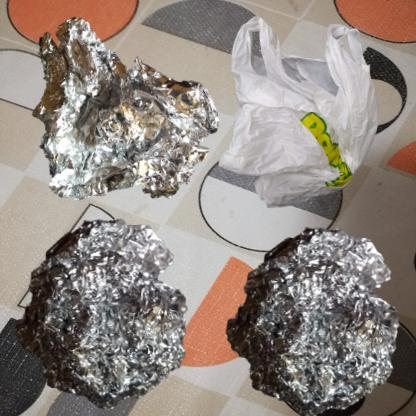aluminio: (10, 10, 239, 230), (213, 213, 416, 416), (10, 213, 193, 416)
bolsa: (213, 10, 395, 226)
